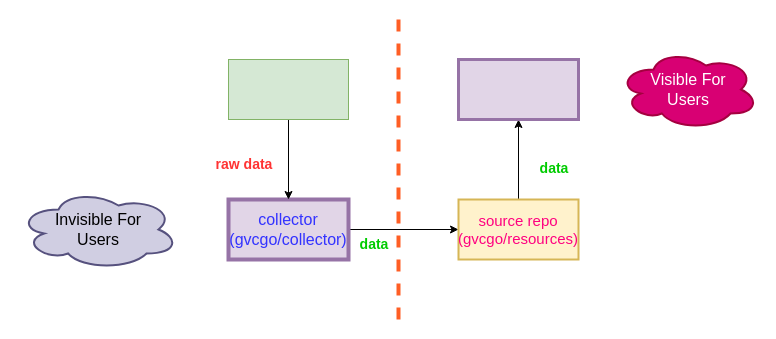
The diagram is 776 pixels wide and 339 high, and some of its shapes have lost their labels. Here are the shapes that lost their labels. From the top down, the centre of each, then its label:
(x=288, y=89): download pages for SDKs
(x=518, y=89): vmr (gvcgo/version-manager)
